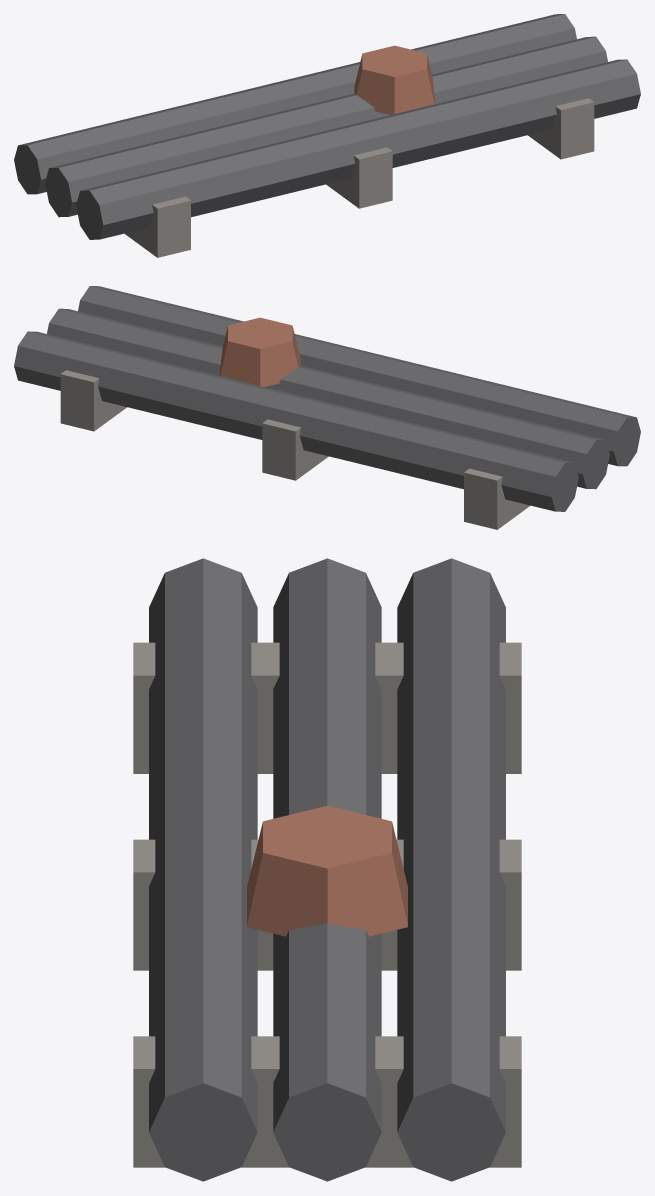
The model's file is pipes.glb.
3 views of the same model, one above another, from view 1: azimuth 30°, elevation 25°; view 2: azimuth 150°, elevation 25°; view 3: azimuth 270°, elevation 25° (orthographic). The views are drawn at different scales.
Bounding box in the file's own units: 16 × 2.6 × 5.
